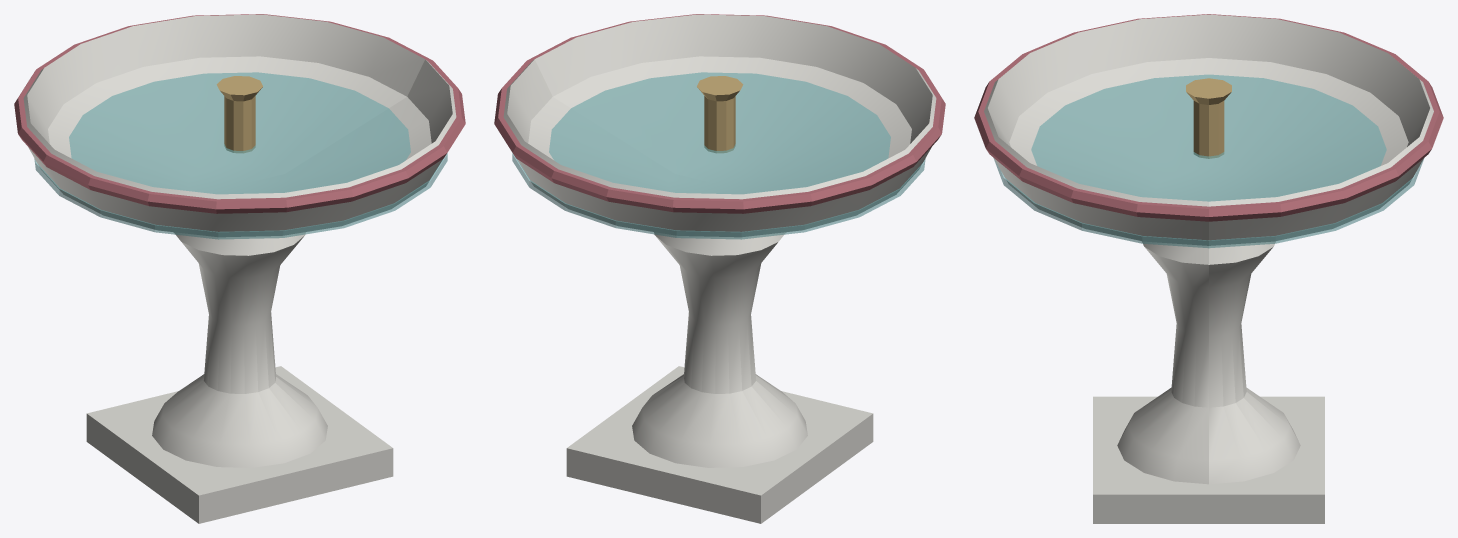
File: roman-bathhouse-and-palaestra-labrum-basin-on-stand-e08f22b4__37880.glb
3 views of the same model, side by side, from view 1: azimuth 30°, elevation 25°; view 2: azimuth 150°, elevation 25°; view 3: azimuth 270°, elevation 25° (orthographic). The views are drawn at different scales.
Parts seen in each view (by area): view 1: labrum-basin-on-stand; view 2: labrum-basin-on-stand; view 3: labrum-basin-on-stand.
Boxes of the visible parts, x1,y1,x2,y2 form: labrum-basin-on-stand: (14,14,465,523); labrum-basin-on-stand: (494,14,945,523); labrum-basin-on-stand: (974,14,1443,523).
Size of the model in its own units: 1.74 by 1.58 by 1.74.
